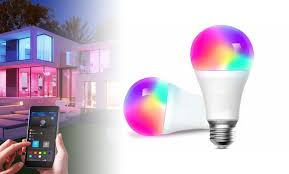bulb: (180, 20, 266, 113), (121, 67, 199, 143)
